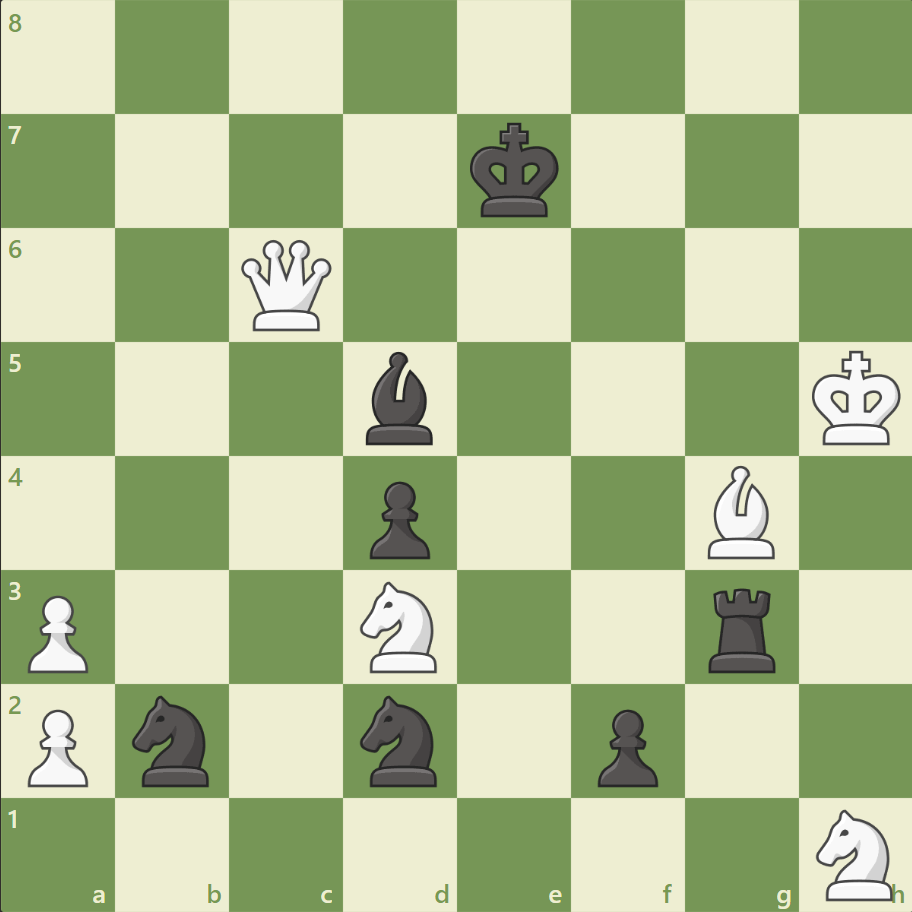B: (698, 460, 782, 563)
K: (806, 344, 906, 452)
N: (351, 575, 449, 677), (806, 802, 903, 904)
P: (20, 586, 95, 677), (20, 700, 95, 791)
Q: (237, 236, 336, 335)
b: (358, 347, 442, 449)
k: (465, 117, 565, 225)
n: (124, 688, 222, 791), (351, 688, 449, 791)
p: (361, 473, 435, 564), (588, 700, 662, 791)
r: (700, 579, 783, 676)
